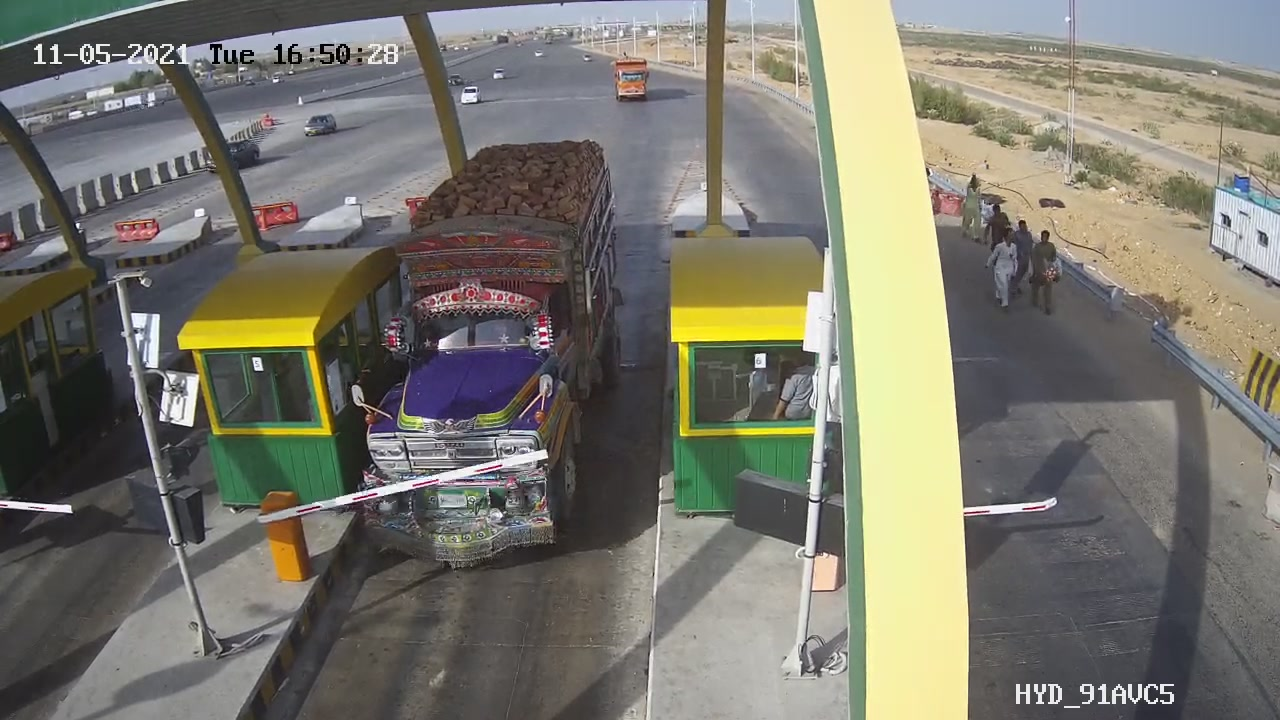F5: (336, 121, 654, 594)
